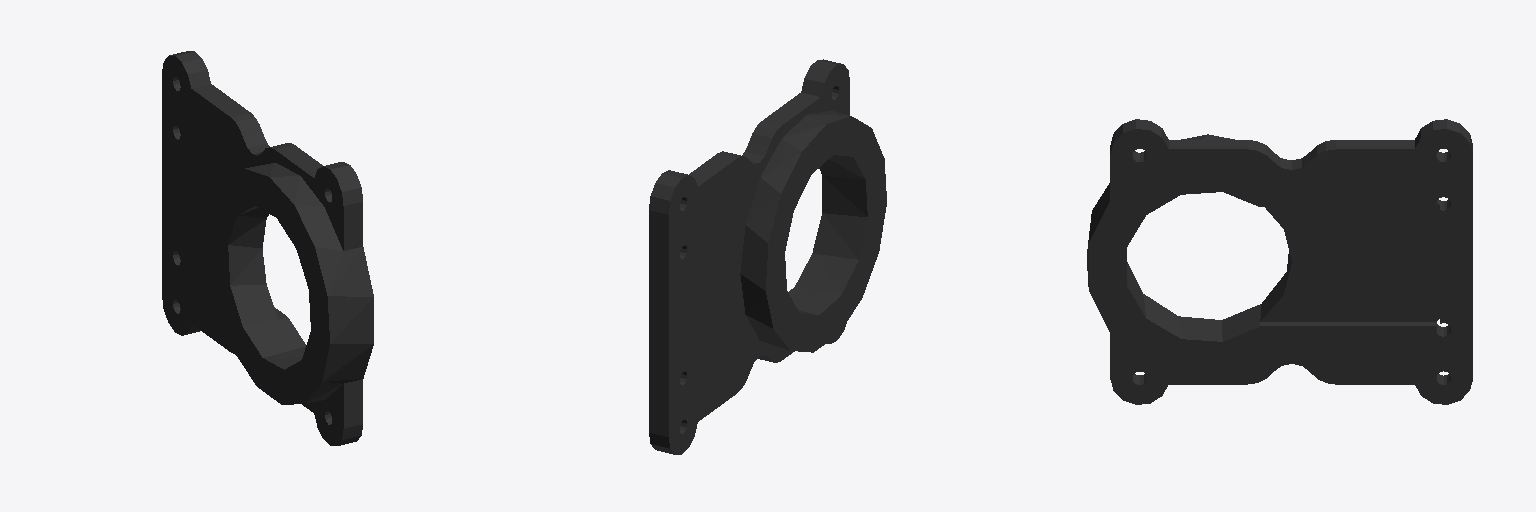
The model's file is arm_v1_1_mesh_1.obj.
The picture shows the model from 3 angles: view 1: azimuth 30°, elevation 25°; view 2: azimuth 150°, elevation 25°; view 3: azimuth 270°, elevation 25°; orthographic projection.
Size of the model in its own units: 0.0068 by 0.0399 by 0.0507.